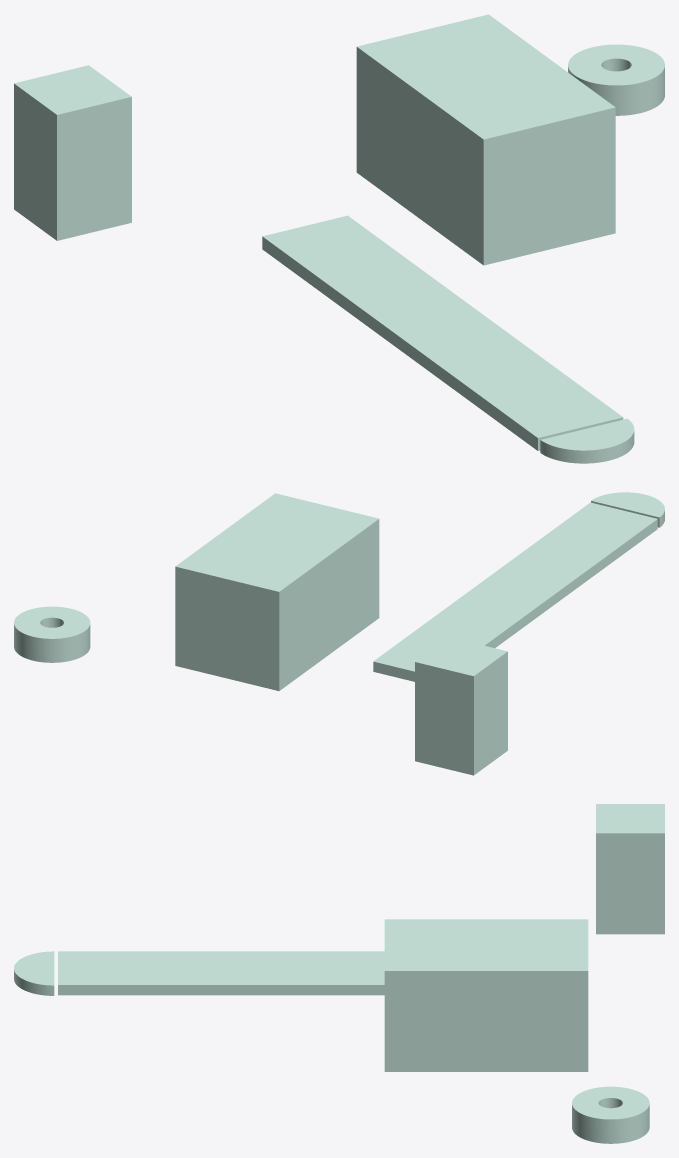
3 views of the same model, one above another, from view 1: azimuth 30°, elevation 25°; view 2: azimuth 150°, elevation 25°; view 3: azimuth 270°, elevation 25° (orthographic). The views are drawn at different scales.
Visible parts, largest first — view 1: Renderer Node; view 2: Renderer Node; view 3: Renderer Node.
Part boxes in pixels (x1,y1,x2,y2): Renderer Node: (14, 14, 664, 463); Renderer Node: (14, 492, 664, 775); Renderer Node: (14, 804, 664, 1143).
Bounding box in the file's own units: 1.15 × 0.2266 × 1.32.
